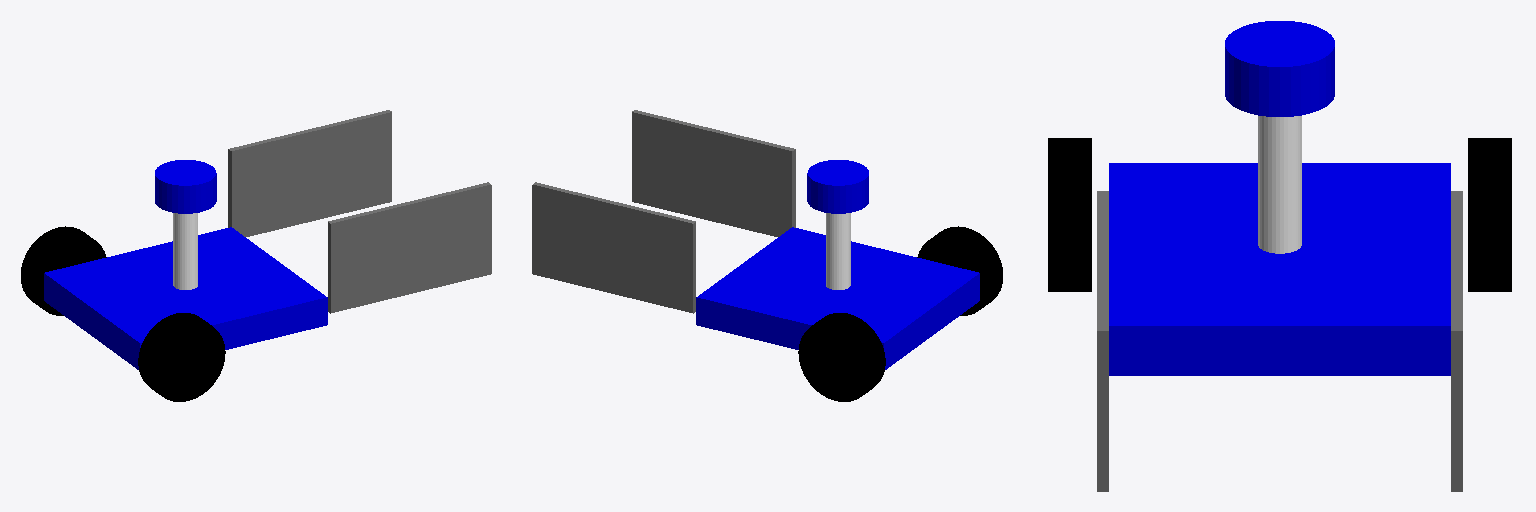
The robot description file, URDF, robot "lidar_scanning_robot":
<?xml version="1.0" ?>
<!-- =================================================================================== -->
<!-- |    This document was autogenerated by xacro from lidar_scanning_robot.xacro      | -->
<!-- |    EDITING THIS FILE BY HAND IS NOT RECOMMENDED                                 | -->
<!-- =================================================================================== -->
<!-- lidar_scanning_robot.xacro -->
<robot name="lidar_scanning_robot">
  <!-- ROS Control plugin -->
  <gazebo>
    <plugin filename="libgazebo_ros_diff_drive.so" name="diff_drive_controller">
      <robotNamespace>/</robotNamespace>
      <commandTopic>cmd_vel</commandTopic>
      <odometryTopic>odom</odometryTopic>
      <odometryFrame>odom</odometryFrame>
      <robotBaseFrame>base_link</robotBaseFrame>
      <leftJoint>left_wheel_joint</leftJoint>
      <rightJoint>right_wheel_joint</rightJoint>
      <wheelSeparation>0.31</wheelSeparation>
      <legacyMode>false</legacyMode>
      <wheelDiameter>0.14</wheelDiameter>
      <robotBaseFrame>base_link</robotBaseFrame>
      <publishOdomTF>true</publishOdomTF>
      <publishWheelJointState>true</publishWheelJointState>
      <max_wheel_torque>10</max_wheel_torque>
      <wheelAcceleration>0.5</wheelAcceleration>
      <max_wheel_acceleration>0.5</max_wheel_acceleration>
      <wheelTorque>10</wheelTorque>
      <updateRate>50</updateRate>
      <max_velocity>0.5</max_velocity>
    </plugin>
  </gazebo>
  <gazebo reference="laser_link">
    <sensor name="rplidar" type="ray">
      <pose>0 0 0 0 0 0</pose>
      <visualize>true</visualize>
      <update_rate>10</update_rate>
      <ray>
        <scan>
          <horizontal>
            <samples>360</samples>
            <resolution>1</resolution>
            <min_angle>-3.14159</min_angle>
            <max_angle>3.14159</max_angle>
          </horizontal>
        </scan>
        <range>
          <min>0.1</min>
          <max>6.0</max>
          <resolution>0.01</resolution>
        </range>
      </ray>
      <plugin filename="libgazebo_ros_laser.so" name="gazebo_ros_rplidar_controller">
        <topicName>/scan</topicName>
        <frameName>laser_link</frameName>
      </plugin>
    </sensor>
  </gazebo>
  <material name="orange">
    <color rgba="1.0 0.423529411765 0.0392156862745 1.0"/>
  </material>
  <material name="black">
    <color rgba="0 0 0 1"/>
  </material>
  <gazebo reference="base_link">
    <material>Gazebo/Blue</material>
    <mu1 value="1.0"/>
    <mu2 value="1.0"/>
    <kp value="10000000.0"/>
    <kd value="100.0"/>
    <maxVel>0.0</maxVel>
    <minDepth>0.001</minDepth>
  </gazebo>
  <gazebo reference="caster_wheel">
    <mu1 value="1.0"/>
    <mu2 value="1.0"/>
    <kp value="10000000.0"/>
    <kd value="1.0"/>
    <material>Gazebo/Orange</material>
  </gazebo>
  <gazebo reference="right_wheel">
    <mu1 value="1.5"/>
    <mu2 value="1.5"/>
    <kp value="10000000.0"/>
    <kd value="1.0"/>
    <fdir1 value="1 0 0"/>
    <material>Gazebo/Black</material>
  </gazebo>
  <gazebo reference="left_wheel">
    <mu1 value="1.5"/>
    <mu2 value="1.5"/>
    <kp value="10000000.0"/>
    <kd value="1.0"/>
    <fdir1 value="1 0 0"/>
    <material>Gazebo/Black</material>
  </gazebo>
  <gazebo reference="left_wall">
    <material>Gazebo/Grey</material>
    <mu1 value="1.0"/>
    <mu2 value="1.0"/>
    <kp value="10000000.0"/>
    <kd value="100.0"/>
    <maxVel>0.0</maxVel>
    <minDepth>0.001</minDepth>
  </gazebo>
  <gazebo reference="right_wall">
    <material>Gazebo/Grey</material>
    <mu1 value="1.0"/>
    <mu2 value="1.0"/>
    <kp value="10000000.0"/>
    <kd value="100.0"/>
    <maxVel>0.0</maxVel>
    <minDepth>0.001</minDepth>
  </gazebo>
  <!-- Lidar cylinder -->
  <link name="lidar_base_cylinder">
    <visual>
      <geometry>
        <cylinder length="0.2" radius="0.02"/>
      </geometry>
      <material name="white">
        <color rgba="1 1 1 1"/>
      </material>
    </visual>
    <collision>
      <geometry>
        <cylinder length="0.2" radius="0.02"/>
      </geometry>
    </collision>
    <inertial>
      <mass value="0.2"/>
      <inertia ixx="0.00001" ixy="0" ixz="0" iyy="0.00001" iyz="0" izz="0.00001"/>
    </inertial>
  </link>
  <joint name="base_to_cylinder" type="fixed">
    <parent link="base_link"/>
    <child link="lidar_base_cylinder"/>
    <origin rpy="0 0 0" xyz="0 0 0.1"/>
  </joint>
  <!-- Lidar Link -->
  <link name="laser_link">
    <inertial>
      <mass value="0.1"/>
      <origin rpy="0 0 0" xyz="0 0 0"/>
      <inertia ixx="0.00001" ixy="0.0" ixz="0.0" iyy="0.00001" iyz="0.0" izz="0.00001"/>
    </inertial>
    <visual>
      <geometry>
        <cylinder length="0.05" radius="0.05"/>
      </geometry>
      <origin rpy="0 0 0" xyz="0 0 0"/>
      <material name="blue">
        <color rgba="0 0 1 1"/>
      </material>
    </visual>
    <collision>
      <origin rpy="0 0 0" xyz="0 0 0"/>
      <geometry>
        <cylinder length="0.05" radius="0.05"/>
      </geometry>
    </collision>
  </link>
  <!-- LiDAR Joint -->
  <joint name="laser_joint" type="fixed">
    <parent link="lidar_base_cylinder"/>
    <child link="laser_link"/>
    <origin rpy="0 0 0" xyz="0.0 0.0 0.1"/>
  </joint>
  <!-- Base Link -->
  <link name="base_link">
    <origin rpy="0 0 0" xyz="0.2 0.1 0.05"/>
    <visual>
      <geometry>
        <box size="0.35 0.31 0.05"/>
      </geometry>
      <material name="blue">
        <color rgba="0 0 1 1"/>
      </material>
    </visual>
    <collision>
      <geometry>
        <box size="0.35 0.31 0.1"/>
      </geometry>
    </collision>
    <inertial>
      <mass value="0.5"/>
      <inertia ixx="0.001" ixy="0" ixz="0" iyy="0.001" iyz="0" izz="0.001"/>
      <origin rpy="0 0 0" xyz="0 0 0"/>
    </inertial>
  </link>
  <link name="caster_wheel">
    <visual>
      <geometry>
        <sphere radius="0.02"/>
      </geometry>
      <material name="grey">
        <color rgba="0.5 0.5 0.5 1"/>
      </material>
    </visual>
    <collision>
      <geometry>
        <sphere radius="0.02"/>
      </geometry>
    </collision>
    <inertial>
      <mass value="0.3"/>
      <inertia ixx="0.00018" ixy="0" ixz="0" iyy="0.00018" iyz="0" izz="0.00018"/>
      <origin rpy="0 0 0" xyz="0 0 0"/>
    </inertial>
  </link>
  <joint name="caster_wheel_joint" type="fixed">
    <parent link="base_link"/>
    <child link="caster_wheel"/>
    <origin rpy="0 0 0" xyz="0.10606060606060606 0 -0.02"/>
    <!-- Corrected Z offset for caster wheel -->
    <dynamics damping="0.01"/>
  </joint>
  <link name="left_wheel">
    <visual>
      <geometry>
        <cylinder length="0.04" radius="0.07"/>
      </geometry>
      <material name="black">
        <color rgba="0 0 0 1"/>
      </material>
    </visual>
    <collision>
      <geometry>
        <cylinder length="0.08" radius="0.07"/>
      </geometry>
    </collision>
    <inertial>
      <mass value="1"/>
      <inertia ixx="0.0007" ixy="0" ixz="0" iyy="0.0007" iyz="0" izz="0.0007"/>
    </inertial>
  </link>
  <joint name="left_wheel_joint" type="continuous">
    <parent link="base_link"/>
    <child link="left_wheel"/>
    <origin rpy="1.5707963267948966 0 0" xyz="-0.11666666666666665 0.19 0"/>
    <!-- Corrected RPY and Z offset -->
    <axis xyz="0 0 -1"/>
    <joint_properties damping="0.5" friction="0.5"/>
  </joint>
  <link name="right_wheel">
    <visual>
      <geometry>
        <cylinder length="0.04" radius="0.07"/>
      </geometry>
      <material name="black">
        <color rgba="0 0 0 1"/>
      </material>
    </visual>
    <collision>
      <geometry>
        <cylinder length="0.08" radius="0.07"/>
      </geometry>
    </collision>
    <inertial>
      <mass value="1"/>
      <inertia ixx="0.0007" ixy="0" ixz="0" iyy="0.0007" iyz="0" izz="0.0007"/>
    </inertial>
  </link>
  <joint name="right_wheel_joint" type="continuous">
    <parent link="base_link"/>
    <child link="right_wheel"/>
    <origin rpy="1.5707963267948966 0 0" xyz="-0.11666666666666665 -0.19 0"/>
    <!-- Corrected RPY and Z offset -->
    <axis xyz="0 0 -1"/>
    <joint_properties damping="0.5" friction="0.5"/>
  </joint>
  <link name="left_wall">
    <visual>
      <geometry>
        <box size="0.3 0.01 0.16"/>
      </geometry>
      <material name="grey">
        <color rgba="0.5 0.5 0.5 1"/>
      </material>
    </visual>
    <collision>
      <geometry>
        <box size="0.3 0.01 0.16"/>
      </geometry>
    </collision>
    <inertial>
      <mass value="0.3"/>
      <inertia ixx="0.001" ixy="0" ixz="0" iyy="0.001" iyz="0" izz="0.001"/>
    </inertial>
  </link>
  <joint name="left_wall_joint" type="fixed">
    <parent link="base_link"/>
    <child link="left_wall"/>
    <origin rpy="0 0 0" xyz="0.32499999999999996 0.16 0.08"/>
  </joint>
  <link name="right_wall">
    <visual>
      <geometry>
        <box size="0.3 0.01 0.16"/>
      </geometry>
      <material name="grey">
        <color rgba="0.5 0.5 0.5 1"/>
      </material>
    </visual>
    <collision>
      <geometry>
        <box size="0.3 0.01 0.16"/>
      </geometry>
    </collision>
    <inertial>
      <mass value="0.3"/>
      <inertia ixx="0.001" ixy="0" ixz="0" iyy="0.001" iyz="0" izz="0.001"/>
    </inertial>
  </link>
  <joint name="right_wall_joint" type="fixed">
    <parent link="base_link"/>
    <child link="right_wall"/>
    <origin rpy="0 0 0" xyz="0.32499999999999996 -0.16 0.08"/>
  </joint>
</robot>

--- What the picture shows (computed from the rendered views, not written in the file) ---
Views: 3 orthographic renders of the robot side by side, from view 1: azimuth 30°, elevation 25°; view 2: azimuth 150°, elevation 25°; view 3: azimuth 270°, elevation 25°.
Robot: lidar_scanning_robot — 8 links, 7 joints (2 continuous, 5 fixed); root link base_link; default pose: all joints at 0.
Links seen in each view (by area): view 1: base_link, right_wall, left_wall, right_wheel, left_wheel, laser_link, lidar_base_cylinder; view 2: base_link, left_wall, right_wall, left_wheel, right_wheel, laser_link, lidar_base_cylinder; view 3: base_link, laser_link, left_wheel, right_wheel, lidar_base_cylinder, left_wall, right_wall.
Boxes of the visible links, x1,y1,x2,y2 form: base_link: (44,227,327,369); right_wall: (328,182,491,313); left_wall: (228,110,391,236); right_wheel: (138,313,225,401); left_wheel: (21,226,106,315); laser_link: (155,160,216,213); lidar_base_cylinder: (173,213,197,289); base_link: (696,227,979,369); left_wall: (532,182,695,313); right_wall: (632,110,795,236); left_wheel: (798,313,885,401); right_wheel: (917,226,1002,315); laser_link: (807,160,868,213); lidar_base_cylinder: (826,213,850,289); base_link: (1109,163,1450,375); laser_link: (1225,21,1334,116); left_wheel: (1468,138,1511,291); right_wheel: (1048,138,1091,291); lidar_base_cylinder: (1258,116,1301,253); left_wall: (1451,191,1462,491); right_wall: (1097,191,1108,491).
Bounding box of the posed robot: 0.6617 × 0.42 × 0.295 m (x, y, z).
Geometry: primitives only (box / cylinder / sphere), no mesh files.
